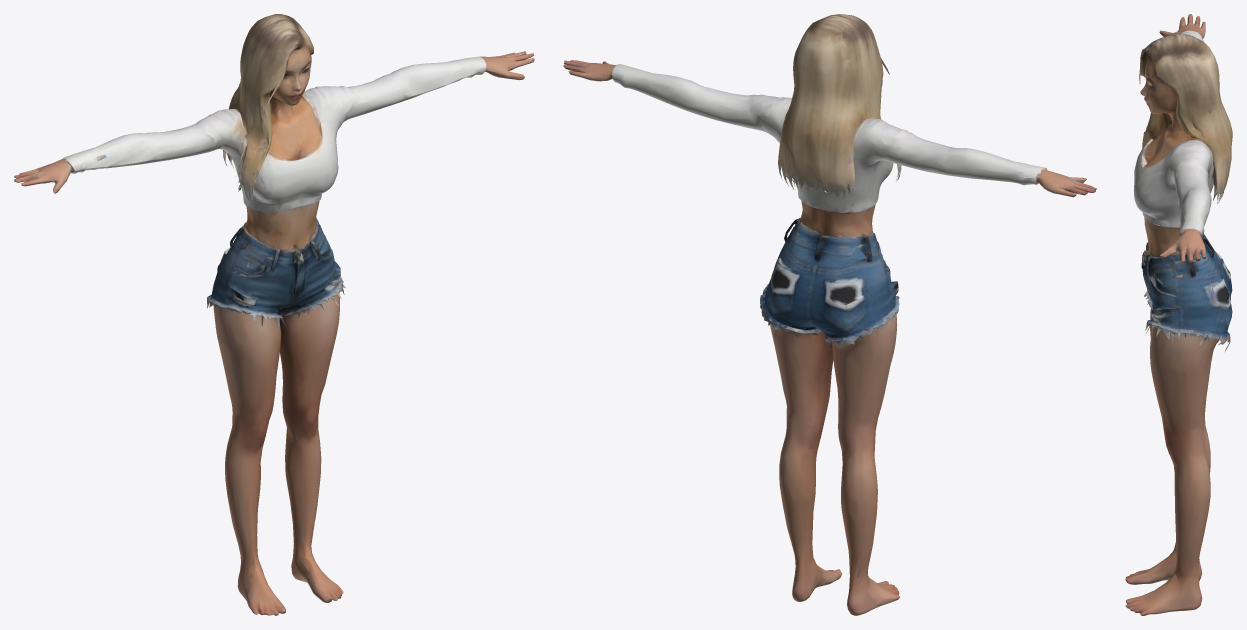
The model's file is female_summer.glb.
The picture shows the model from 3 angles, left to right: view 1: azimuth 30°, elevation 25°; view 2: azimuth 150°, elevation 25°; view 3: azimuth 270°, elevation 25°; orthographic projection. The views are drawn at different scales.
Visible parts, largest first — view 1: female_summer; view 2: female_summer; view 3: female_summer.
Boxes of the visible parts, x1,y1,x2,y2 form: female_summer: (14, 14, 534, 615); female_summer: (563, 14, 1096, 615); female_summer: (1125, 14, 1232, 615).
Size of the model in its own units: 1.57 by 1.66 by 0.289.
Materials: 1 (1 with a texture image).
